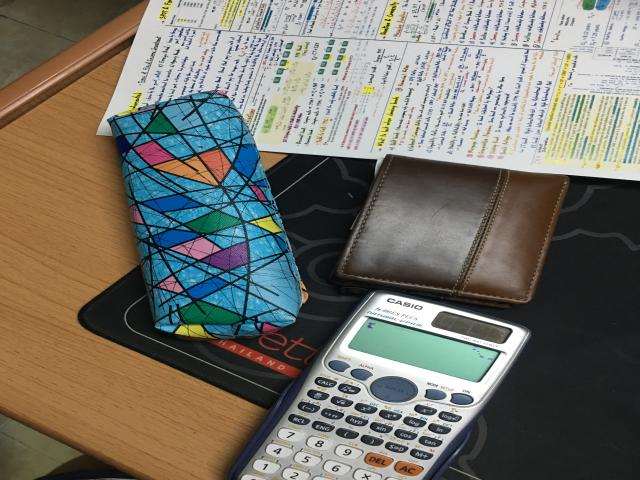Wallet: (332, 155, 568, 308)
paper: (98, 0, 638, 179)
